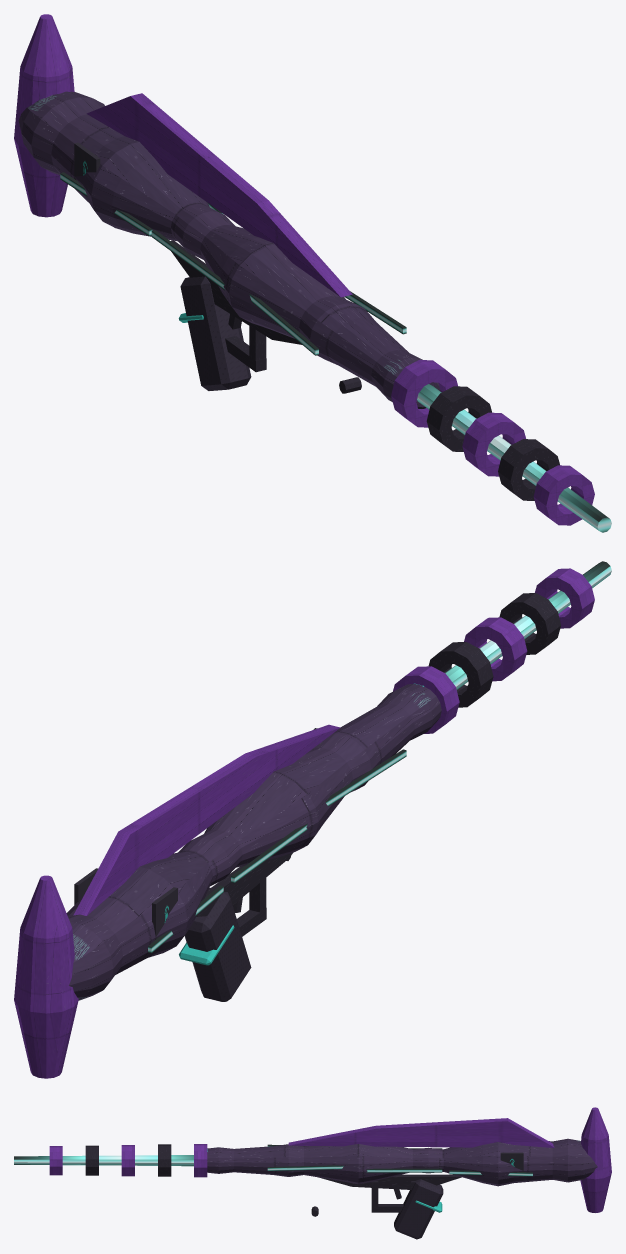
The model's file is hlx_rifle.obj.
3 renders of one model, top to bottom at view 1: azimuth 30°, elevation 25°; view 2: azimuth 150°, elevation 25°; view 3: azimuth 270°, elevation 25°, orthographic. The views are drawn at different scales.
Visible parts, largest first — view 1: hlx_rifle; view 2: hlx_rifle; view 3: hlx_rifle.
Part boxes in pixels (x1,y1,x2,y2): hlx_rifle: [14, 14, 611, 532]; hlx_rifle: [14, 561, 611, 1078]; hlx_rifle: [14, 1107, 611, 1239].
Bounding box in the file's own units: 0.0964 × 0.2353 × 0.9929.
1 material, 1 textured.
